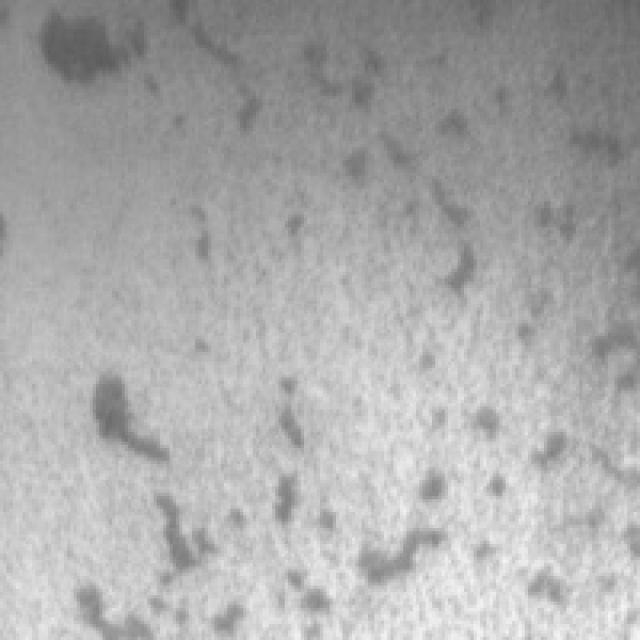patches: (22, 3, 125, 83)
pitted_surface: (67, 77, 608, 627)
